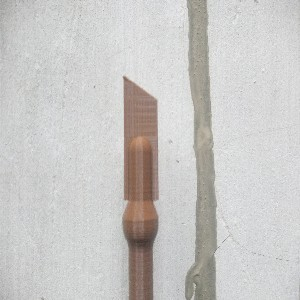cutter: (121, 75, 161, 300)
